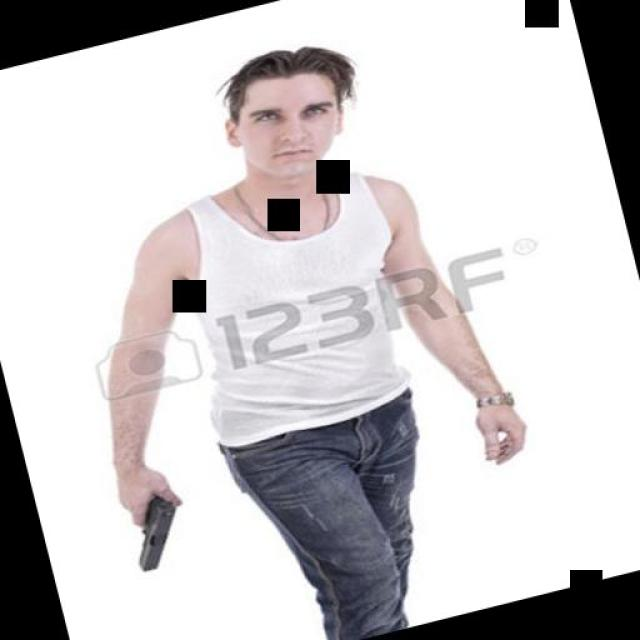gun: (110, 489, 190, 576)
